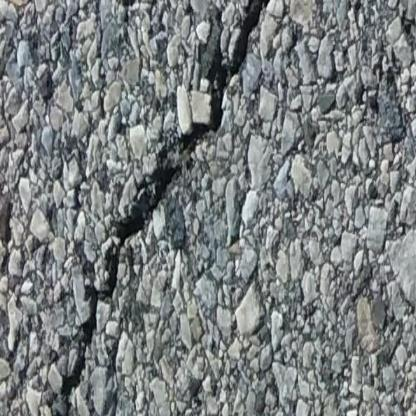Cracks: (46, 0, 279, 416)
